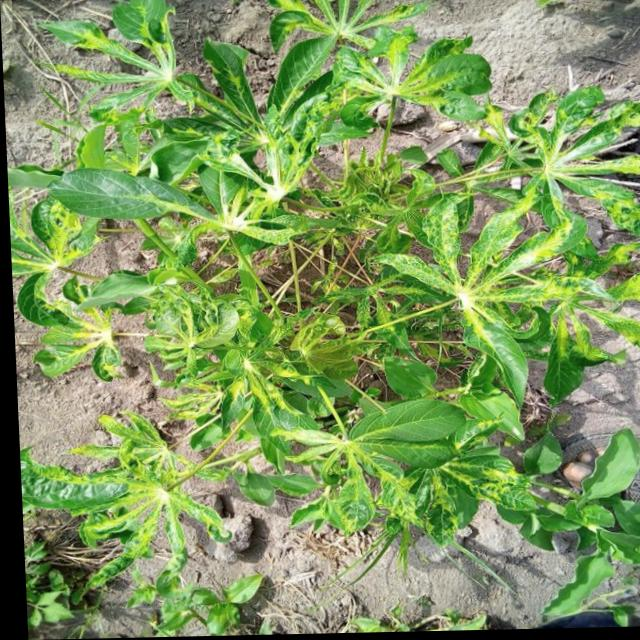Mosaico: (374, 177, 629, 373), (155, 42, 351, 200), (59, 442, 289, 572), (248, 400, 478, 528), (312, 18, 529, 125), (483, 87, 633, 215), (34, 257, 142, 431), (151, 173, 318, 277), (98, 276, 249, 384)
